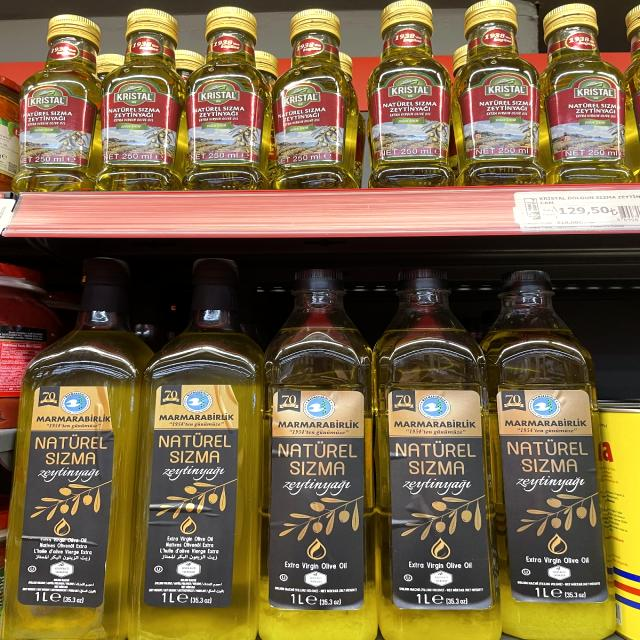olive oil: (2, 263, 154, 640), (496, 266, 604, 640), (135, 331, 260, 640), (254, 320, 374, 640), (387, 291, 493, 640)
